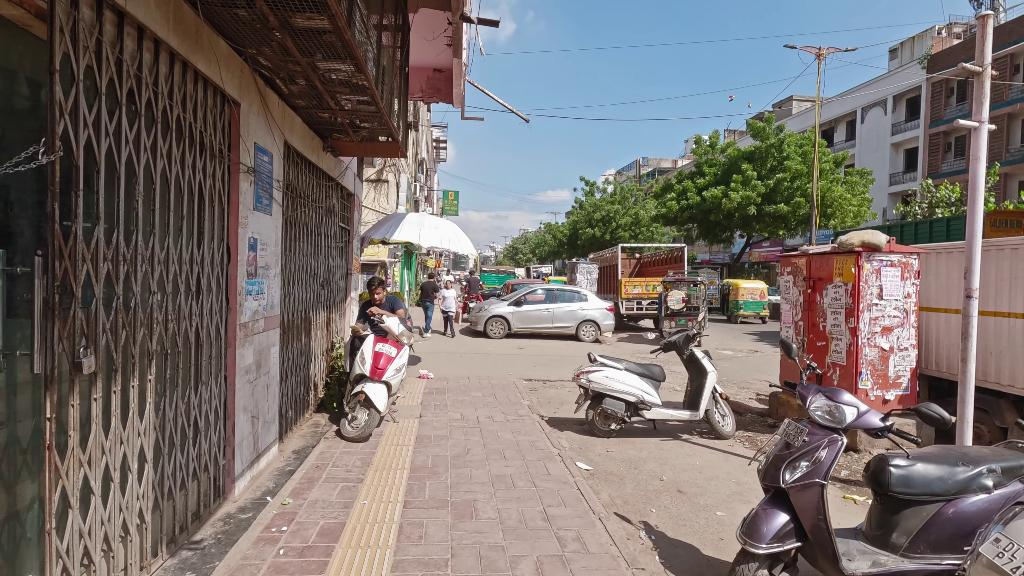garbage: (575, 459, 593, 473), (416, 368, 429, 379)
